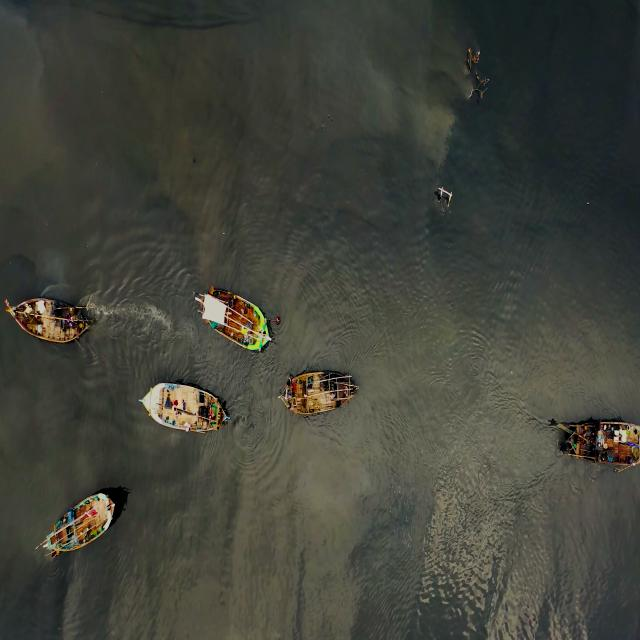ship: (36, 490, 122, 563), (1, 285, 94, 351), (196, 283, 274, 359), (134, 383, 234, 434), (553, 415, 640, 467), (279, 367, 361, 420)
